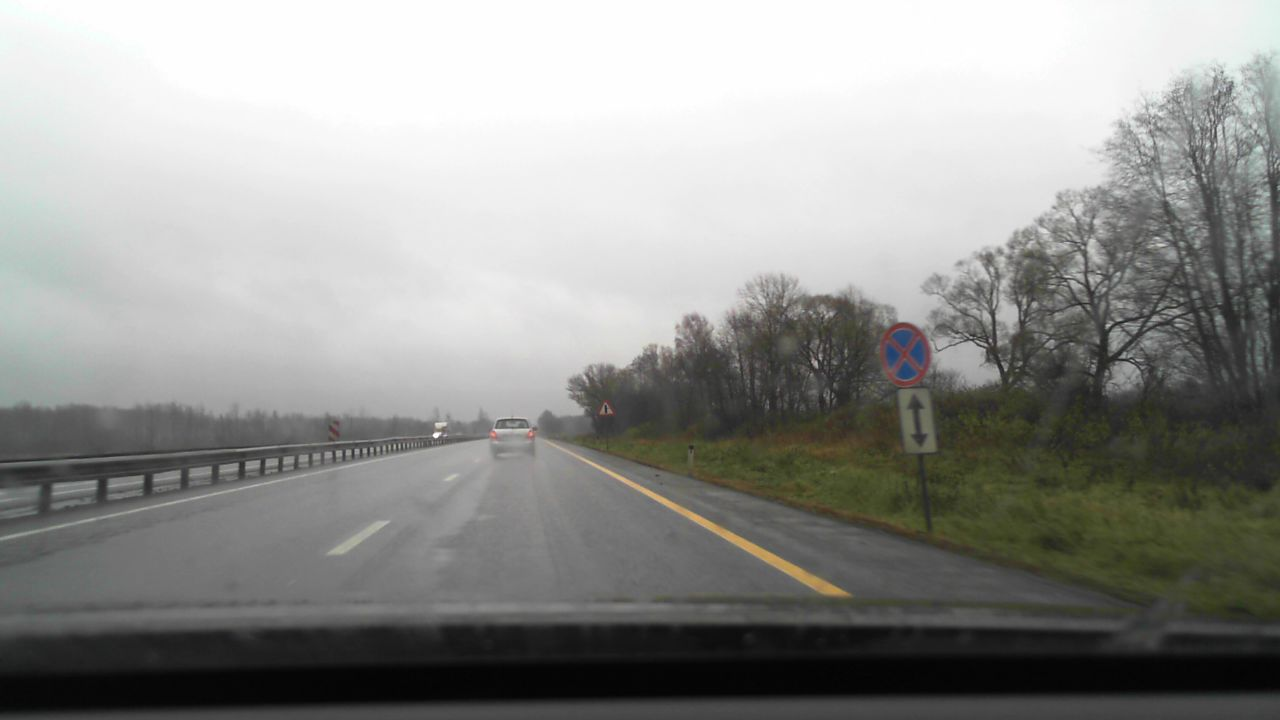No Parking: (878, 322, 930, 387)
